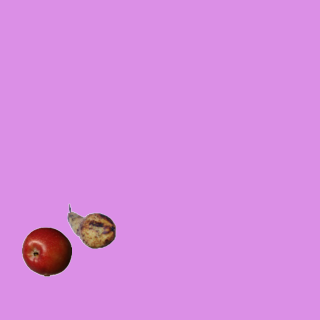Apple Braeburn: (21, 226, 71, 276)
Pear Abate: (66, 201, 116, 251)
